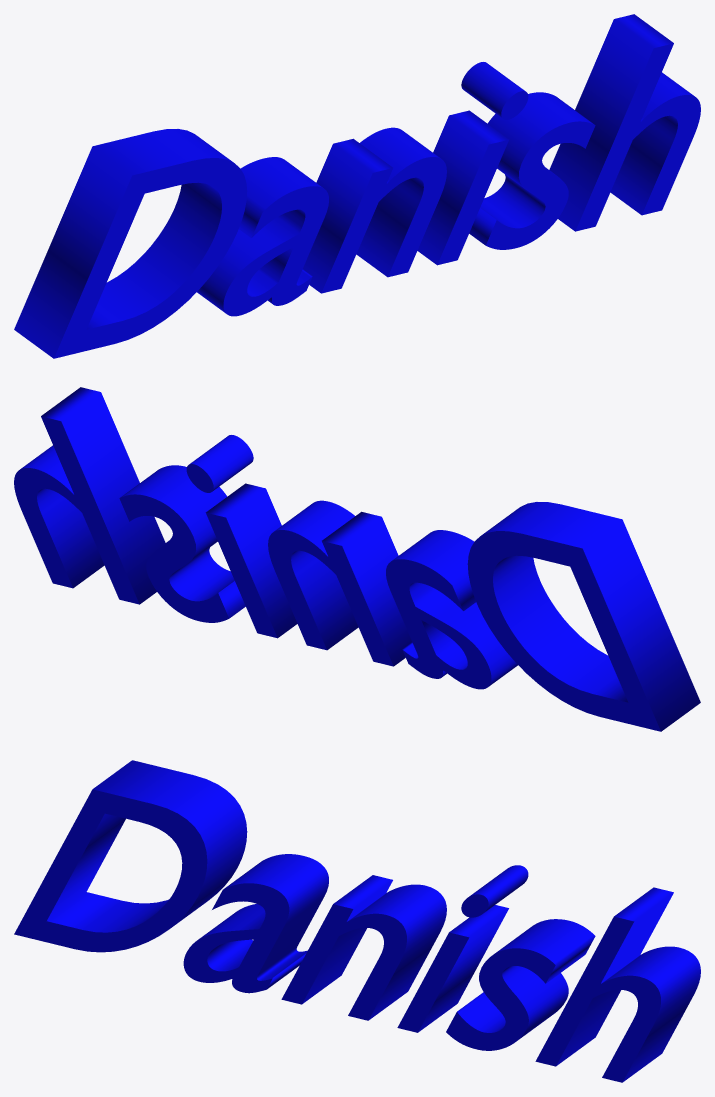
The picture shows the model from 3 angles, top to bottom: view 1: azimuth 30°, elevation 25°; view 2: azimuth 150°, elevation 25°; view 3: azimuth 330°, elevation 25°; orthographic projection.
Parts seen in each view (by area): view 1: Danish; view 2: Danish; view 3: Danish.
Boxes of the visible parts, x1,y1,x2,y2 form: Danish: (14, 14, 700, 358); Danish: (14, 387, 700, 731); Danish: (14, 760, 700, 1082).
Bounding box in the file's own units: 4.22 × 1.04 × 0.45.
